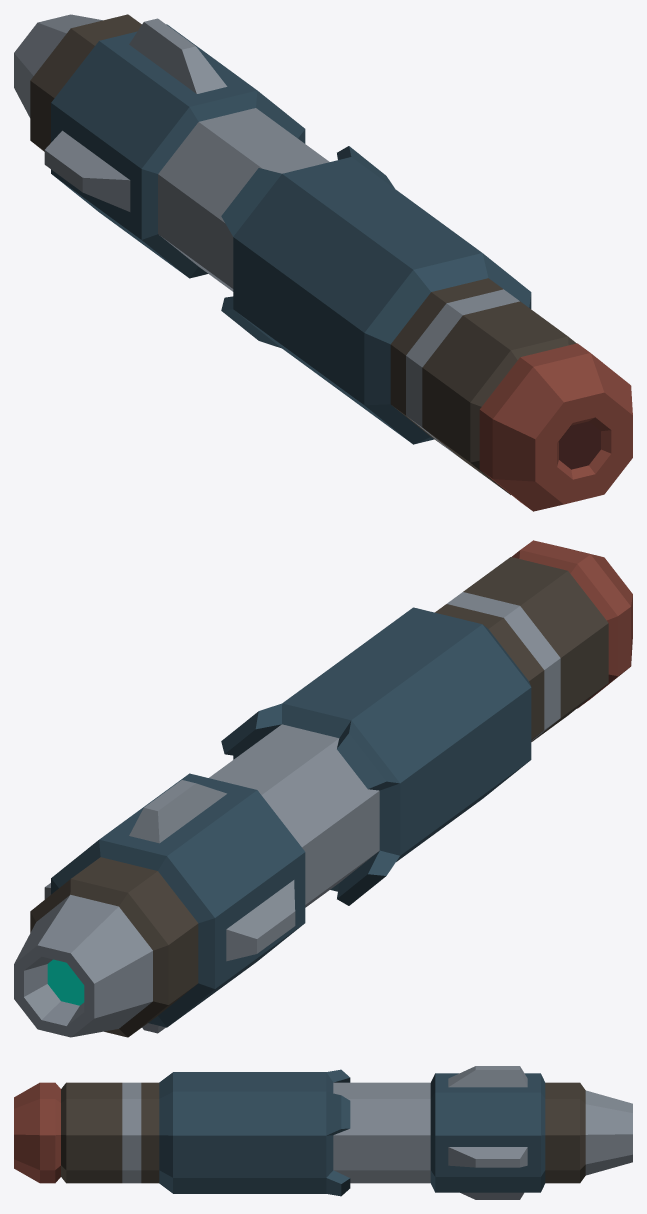
File: SM_Wep_Rocket_01.fbx
3 views of the same model, one above another, from view 1: azimuth 30°, elevation 25°; view 2: azimuth 150°, elevation 25°; view 3: azimuth 270°, elevation 25° (orthographic). The views are drawn at different scales.
Parts seen in each view (by area): view 1: SM_Wep_Rocket_01; view 2: SM_Wep_Rocket_01; view 3: SM_Wep_Rocket_01.
Boxes of the visible parts, left/top/right/bottom form: SM_Wep_Rocket_01: left=14, top=14, right=632, bottom=511; SM_Wep_Rocket_01: left=14, top=540, right=632, bottom=1037; SM_Wep_Rocket_01: left=14, top=1066, right=632, bottom=1199.
Size of the model in its own units: 11.12 by 11.12 by 48.06.
